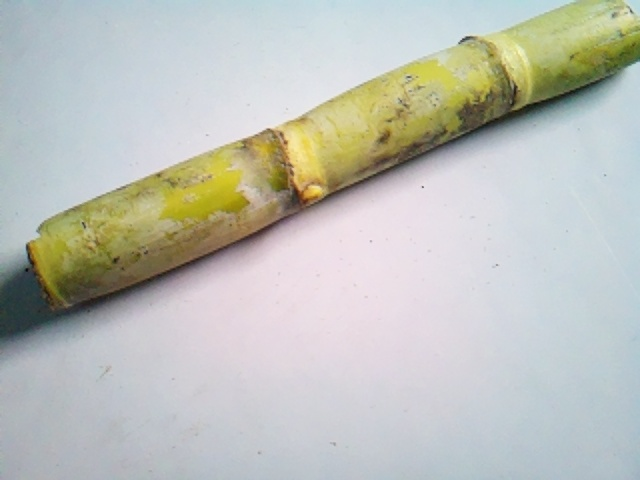Good Sugarcane: (29, 0, 640, 318)
Node: (244, 117, 331, 208), (445, 29, 532, 115)
